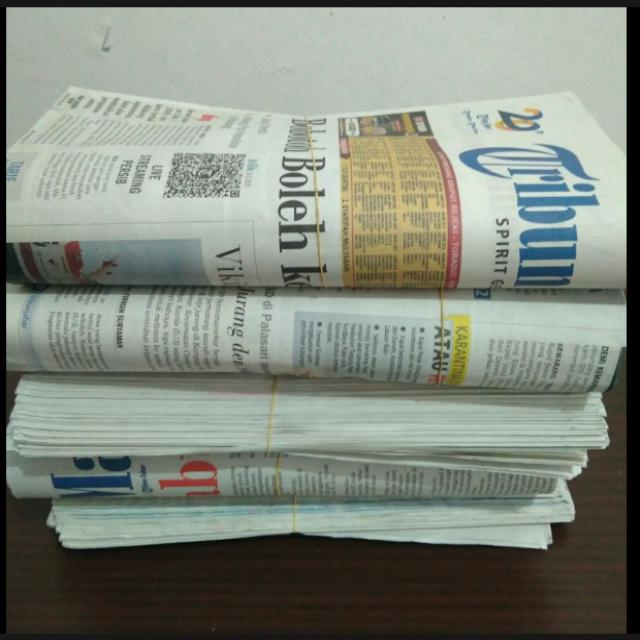Koran: (5, 284, 628, 568), (5, 84, 627, 291)
